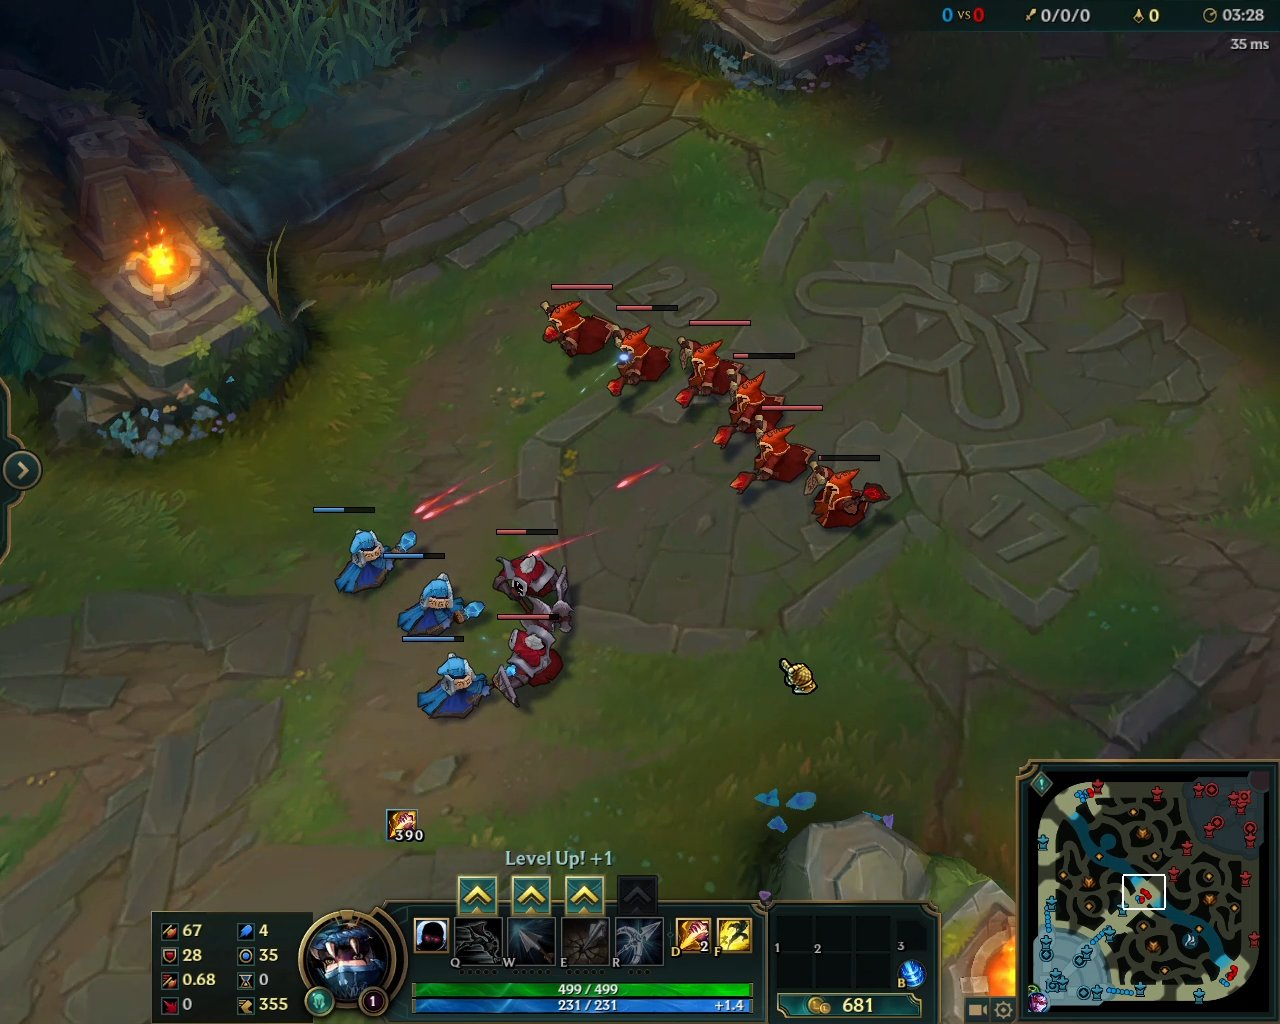EnemyMinion: (726, 404, 825, 499), (714, 351, 798, 445), (673, 320, 752, 412), (491, 612, 568, 706), (607, 304, 680, 401), (491, 527, 574, 612), (802, 452, 885, 534), (540, 285, 613, 362)
